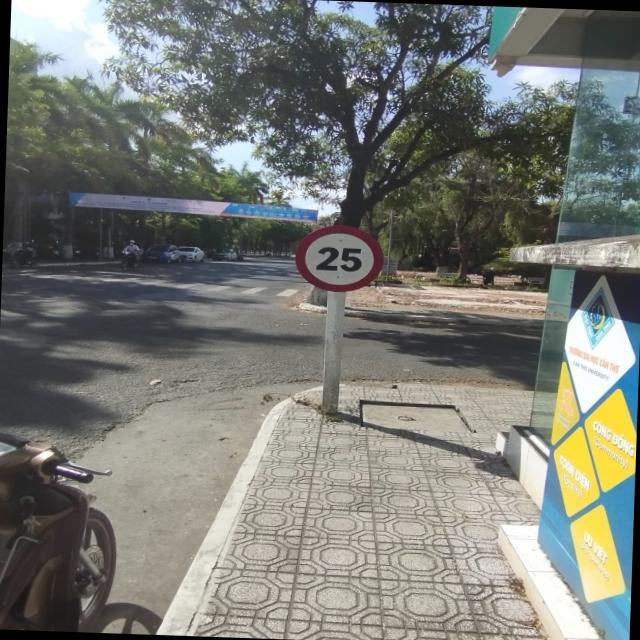Tre_Em: (292, 223, 384, 293)
